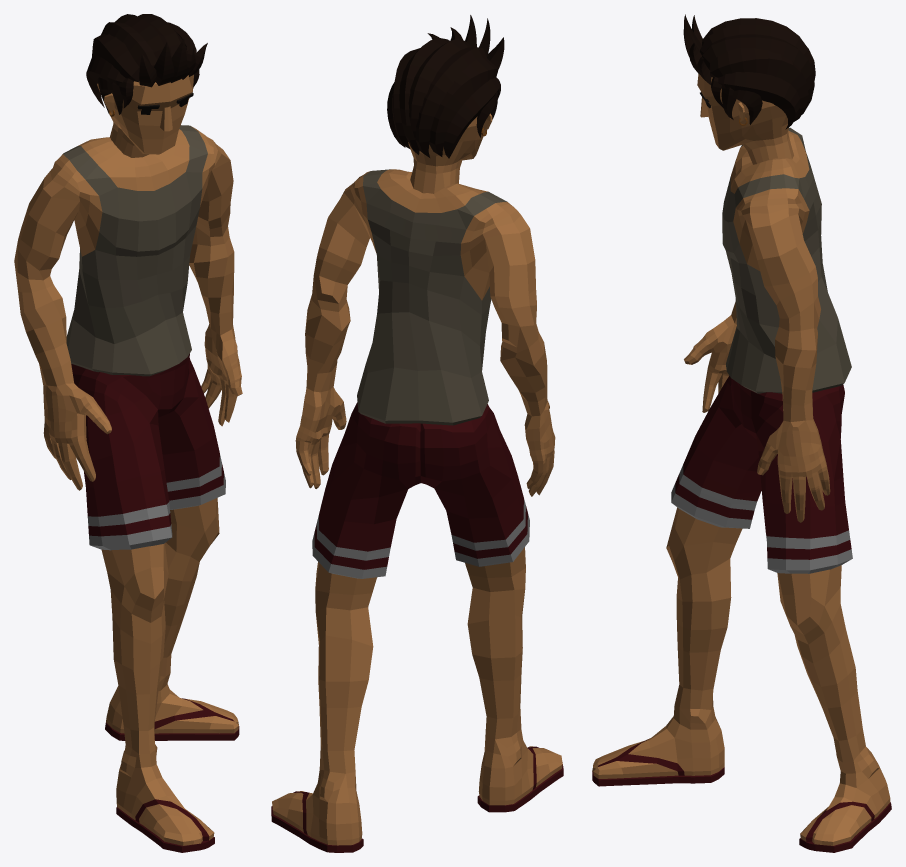
3 views of the same model, side by side, from view 1: azimuth 30°, elevation 25°; view 2: azimuth 150°, elevation 25°; view 3: azimuth 270°, elevation 25° (orthographic).
Parts seen in each view (by area): view 1: Beach_Body_static, Beach_Legs_static, Beach_Head_static, Beach_Feet_static; view 2: Beach_Body_static, Beach_Legs_static, Beach_Head_static, Beach_Feet_static; view 3: Beach_Legs_static, Beach_Body_static, Beach_Head_static, Beach_Feet_static.
Part boxes in pixels (x1,y1,x2,y2): Beach_Body_static: [14, 125, 242, 490]; Beach_Legs_static: [71, 353, 225, 753]; Beach_Head_static: [86, 14, 207, 157]; Beach_Feet_static: [105, 674, 239, 852]; Beach_Body_static: [295, 169, 555, 496]; Beach_Legs_static: [312, 402, 529, 773]; Beach_Head_static: [387, 15, 504, 193]; Beach_Feet_static: [271, 729, 563, 852]; Beach_Legs_static: [666, 376, 865, 762]; Beach_Body_static: [684, 127, 851, 522]; Beach_Head_static: [683, 14, 815, 164]; Beach_Feet_static: [592, 705, 891, 852].
Size of the model in its own units: 0.593 by 1.82 by 0.6411.
